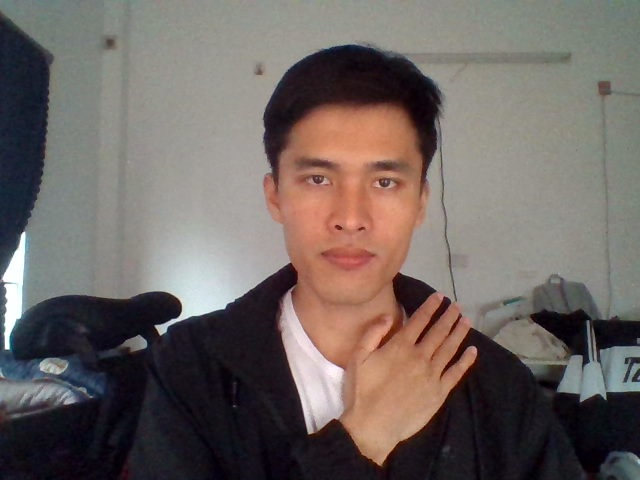Please: (341, 287, 481, 449)
